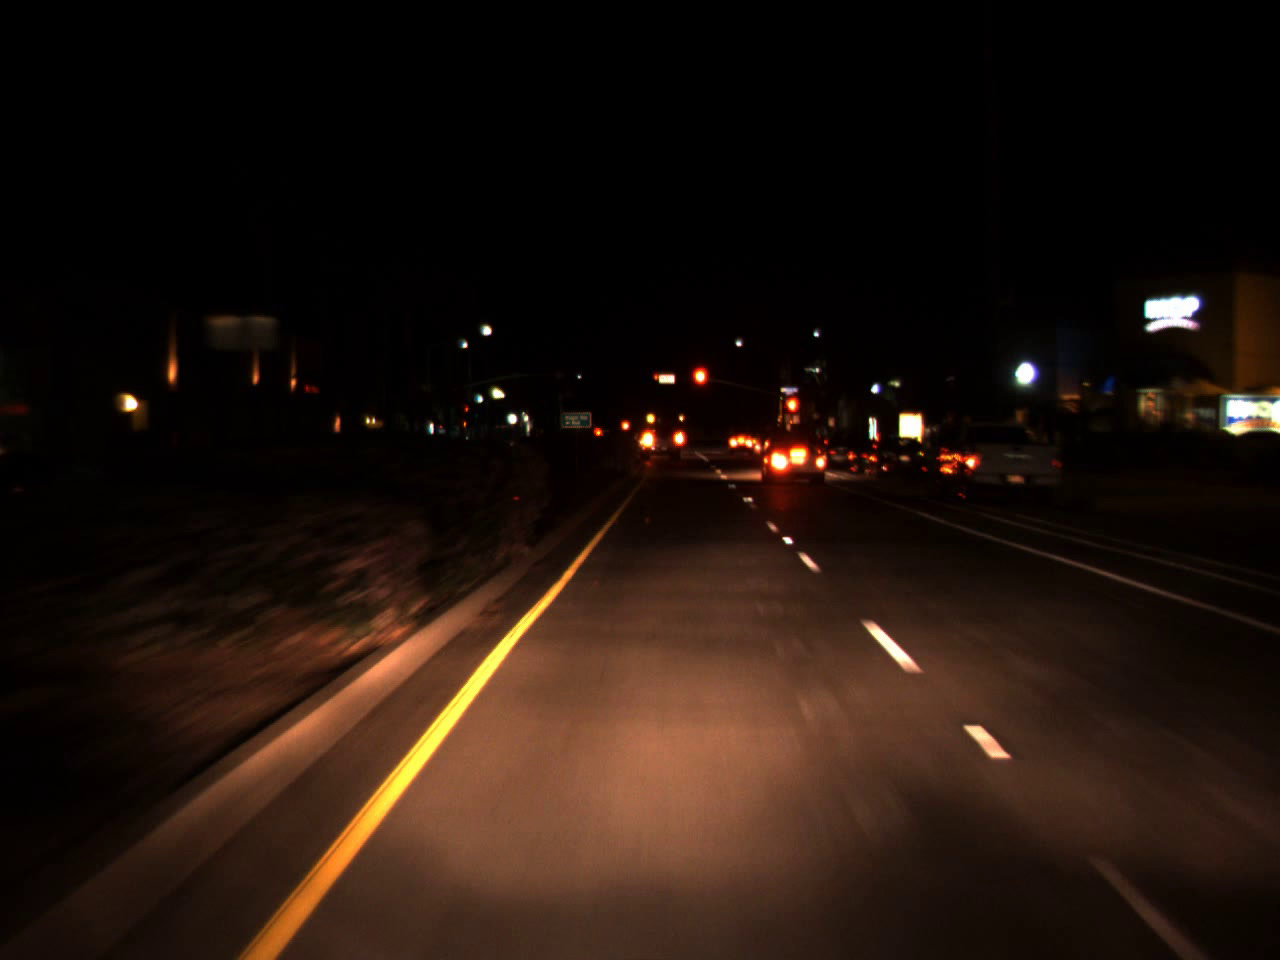stop: (690, 364, 709, 407), (783, 394, 801, 431), (463, 404, 469, 417), (653, 374, 659, 384)
